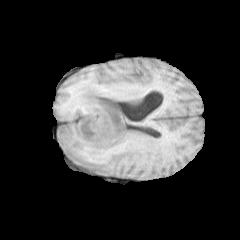glioma: (58, 79, 147, 172)
